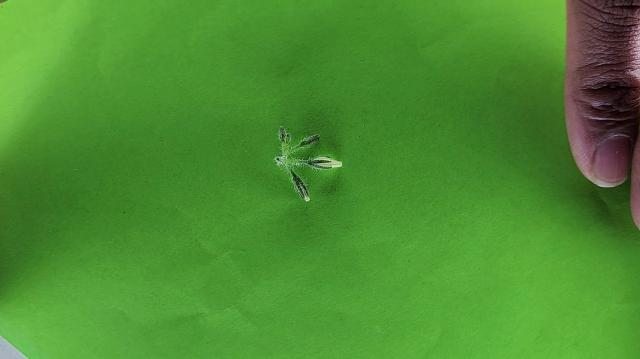Flower Bud: (289, 167, 309, 202), (306, 156, 343, 170), (295, 133, 320, 150)
